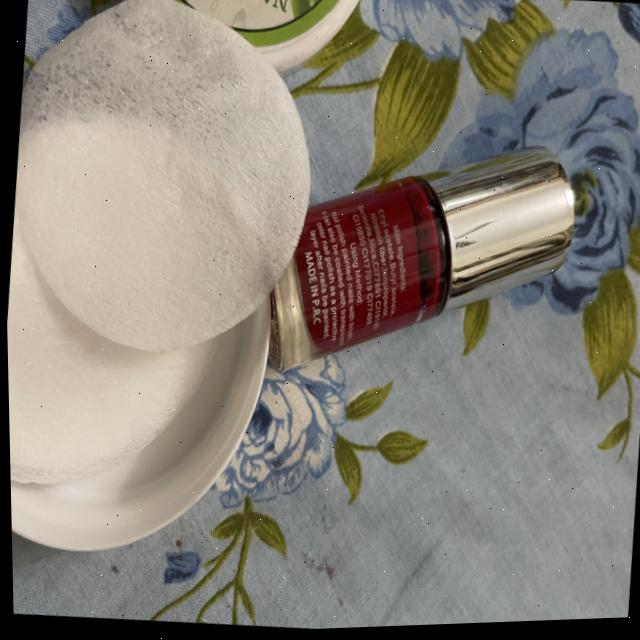nail polish: (245, 96, 593, 446)
nail polish remover: (0, 0, 336, 561)
